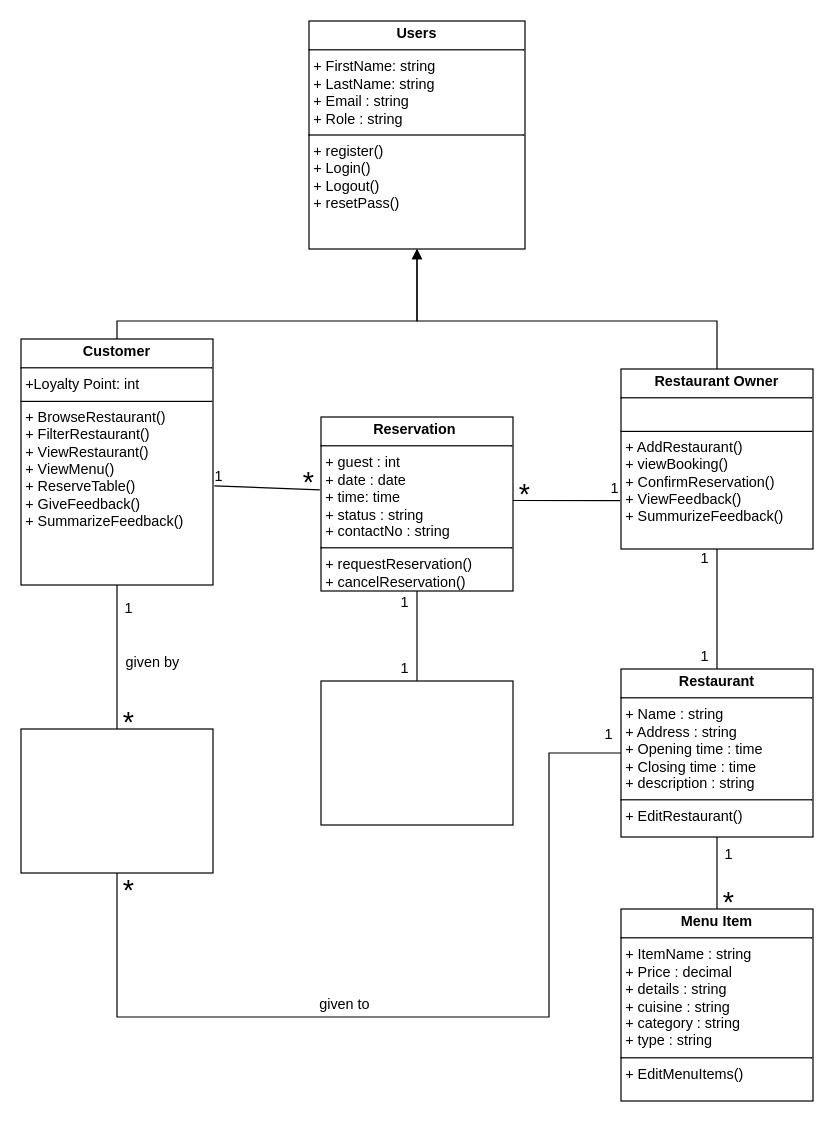
This 834x1122 diagram has some shape labels left out. Here are the shapes that lost their labels. From the top down, the centre of each, then its label:
pixel 416 752: Payment + Amount : decimal + mode : string + status : string
pixel 116 800: Feedback + rating: int + comments: string + datetime: date time
